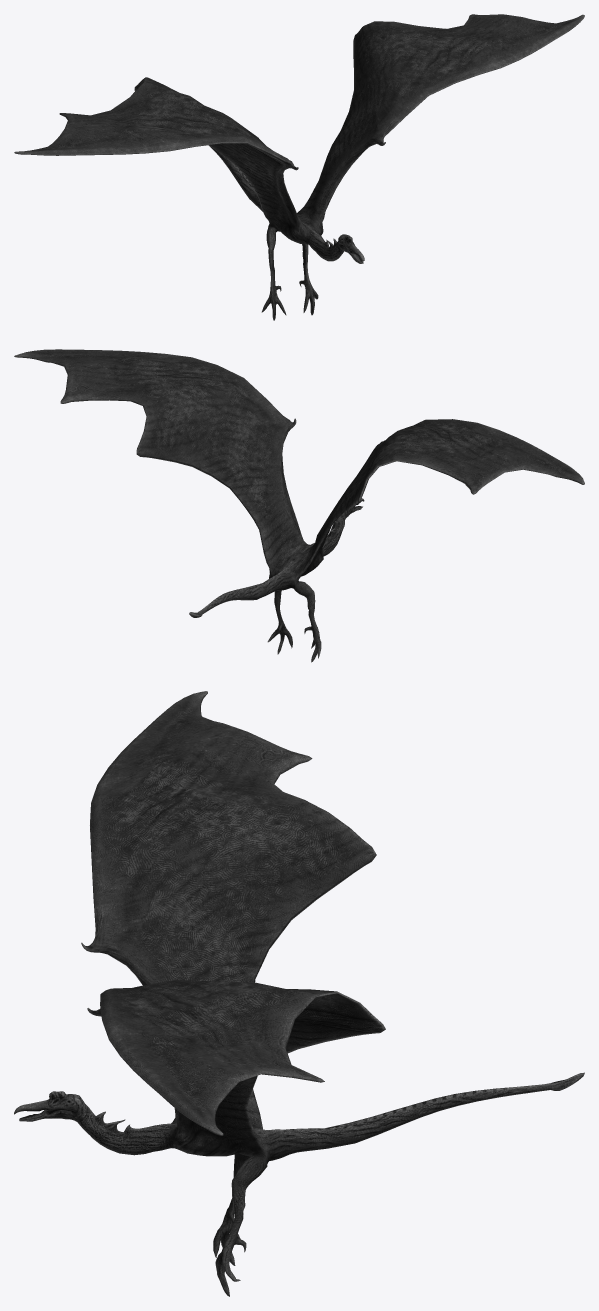
The model's file is Fellbeast_Animate_Grab_Glide_13.obj.
The picture shows the model from 3 angles, top to bottom: view 1: azimuth 30°, elevation 25°; view 2: azimuth 150°, elevation 25°; view 3: azimuth 270°, elevation 25°; orthographic projection. The views are drawn at different scales.
Parts seen in each view (by area): view 1: Fellbeast; view 2: Fellbeast; view 3: Fellbeast.
Boxes of the visible parts, bbox=[...] form: Fellbeast: bbox=[14, 14, 584, 320]; Fellbeast: bbox=[14, 349, 584, 662]; Fellbeast: bbox=[14, 691, 584, 1296].
Bounding box in the file's own units: 7.75 × 3.23 × 4.3.
